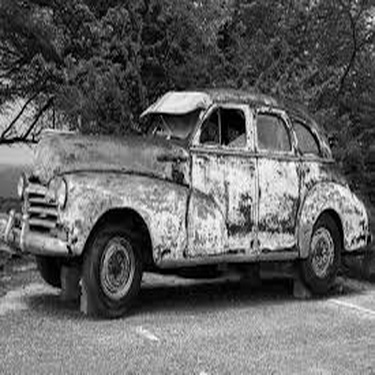car: (9, 75, 363, 306)
